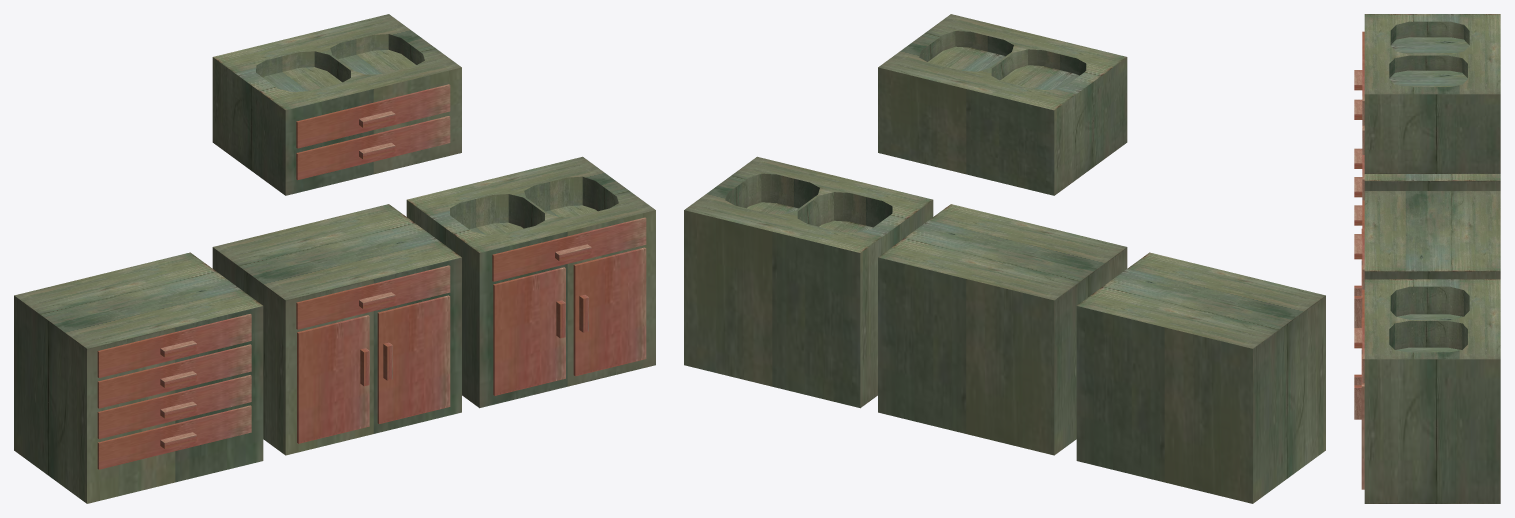
Rendered from armarios cozinha final.fbx.
The picture shows the model from 3 angles, left to right: view 1: azimuth 30°, elevation 25°; view 2: azimuth 150°, elevation 25°; view 3: azimuth 270°, elevation 25°; orthographic projection. The views are drawn at different scales.
Parts seen in each view (by area): view 1: polySurface80, polySurface81, polySurface79, polySurface78, pCube527, pCube520, pCube526, pCube521, pCube537, pCube533, pCube517, pCube525 (+4 smaller); view 2: polySurface80, polySurface79, polySurface78, polySurface81; view 3: polySurface78, polySurface81, polySurface79, polySurface80, pCube520, pCube517, pCube542, pCube523, pCube525, pCube528, pCube536, pCube524 (+5 smaller).
Boxes of the visible parts, left/top/right/bottom form: polySurface80: left=14, top=252, right=263, bottom=503; polySurface81: left=212, top=14, right=461, bottom=195; polySurface79: left=212, top=204, right=461, bottom=455; polySurface78: left=406, top=156, right=655, bottom=408; pCube527: left=377, top=295, right=450, bottom=423; pCube520: left=573, top=247, right=646, bottom=376; pCube526: left=297, top=315, right=369, bottom=443; pCube521: left=493, top=267, right=565, bottom=395; pCube537: left=97, top=405, right=251, bottom=469; pCube533: left=97, top=344, right=251, bottom=408; pCube517: left=492, top=217, right=646, bottom=281; pCube525: left=296, top=265, right=450, bottom=329; polySurface80: left=1076, top=252, right=1325, bottom=503; polySurface79: left=878, top=204, right=1127, bottom=455; polySurface78: left=684, top=156, right=933, bottom=408; polySurface81: left=878, top=14, right=1127, bottom=195; polySurface78: left=1364, top=279, right=1500, bottom=503; polySurface81: left=1364, top=14, right=1500, bottom=173; polySurface79: left=1364, top=191, right=1500, bottom=279; polySurface80: left=1364, top=174, right=1500, bottom=190; pCube520: left=1361, top=354, right=1364, bottom=489; pCube517: left=1362, top=289, right=1364, bottom=383; pCube542: left=1362, top=31, right=1364, bottom=125; pCube523: left=1354, top=385, right=1361, bottom=419; pCube525: left=1362, top=200, right=1364, bottom=289; pCube528: left=1354, top=296, right=1361, bottom=327; pCube536: left=1354, top=205, right=1362, bottom=225; pCube524: left=1354, top=328, right=1362, bottom=348.
Size of the model in its own units: 13.08 by 7.58 by 3.12.
